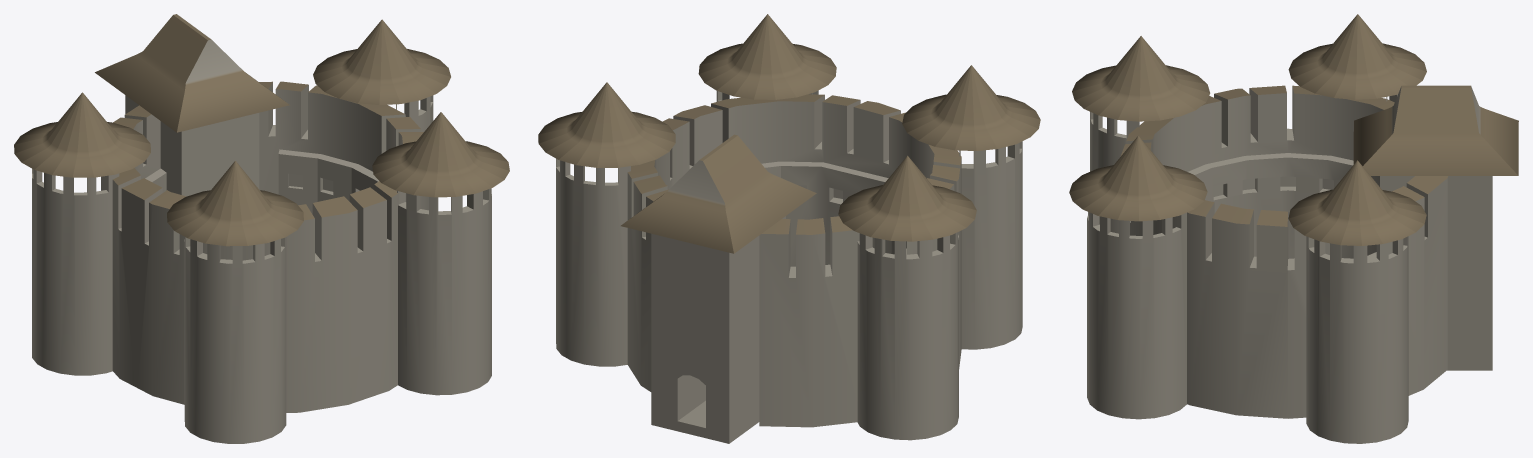
3 renders of one model, left to right at view 1: azimuth 30°, elevation 25°; view 2: azimuth 150°, elevation 25°; view 3: azimuth 270°, elevation 25°, orthographic.
Parts seen in each view (by area): view 1: polySurface41:PIV; view 2: polySurface41:PIV; view 3: polySurface41:PIV.
Boxes of the visible parts, left/top/right/bottom form: polySurface41:PIV: left=14, top=14, right=509, bottom=443; polySurface41:PIV: left=538, top=14, right=1040, bottom=443; polySurface41:PIV: left=1069, top=14, right=1518, bottom=443.
Bounding box in the file's own units: 9.45 × 5.77 × 8.77.
